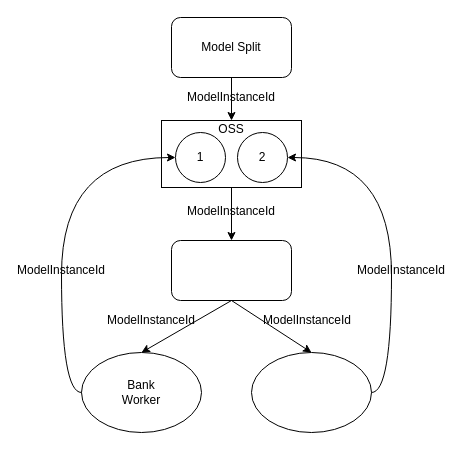
This 462x450 diagram has some shape labels left out. The shapes that lost their labels are listed below. From the top down, each one's centre as x and y in pixels, then its label:
the point at 231,270: Coordinator
the point at 311,392: Ant Worker
